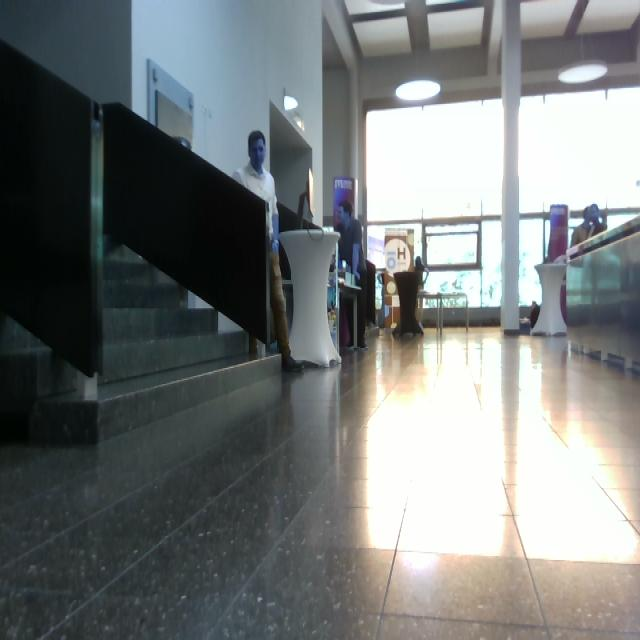light bulb: (558, 60, 608, 85), (396, 80, 441, 102), (173, 136, 192, 150), (284, 94, 298, 112)
person: (232, 130, 304, 373), (336, 200, 369, 350)
pillar: (500, 1, 522, 334)
table: (277, 226, 346, 373)
tiled floor: (1, 320, 639, 638)
